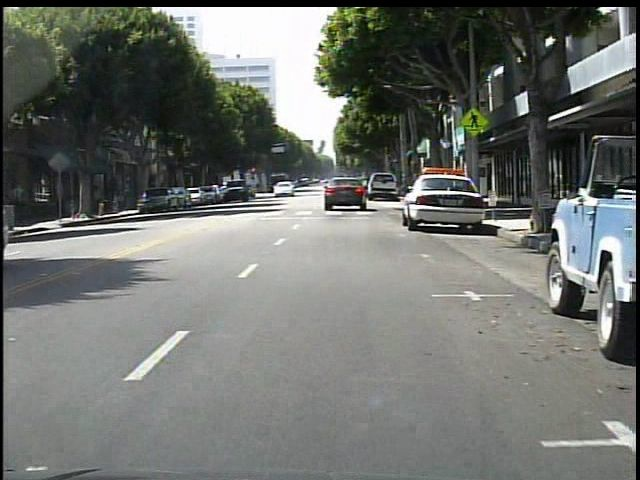person: (15, 179, 33, 228)
